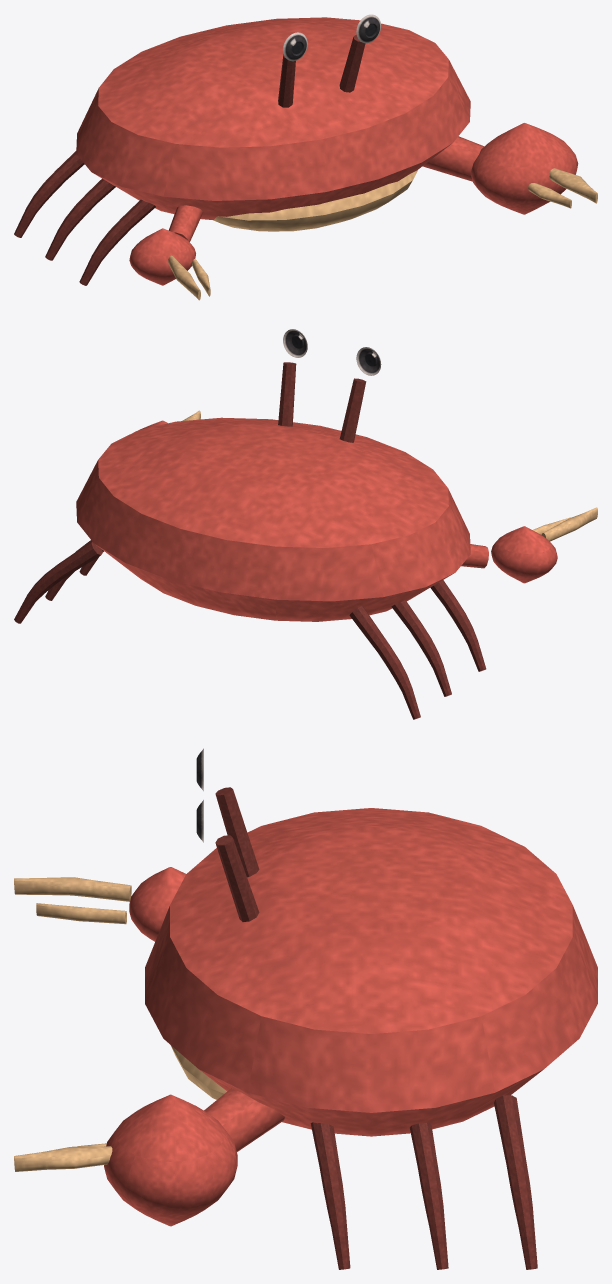
The model's file is sp_kanippa-e3efsgs3.glb.
The picture shows the model from 3 angles, top to bottom: view 1: azimuth 30°, elevation 25°; view 2: azimuth 150°, elevation 25°; view 3: azimuth 270°, elevation 25°; orthographic projection. The views are drawn at different scales.
Parts seen in each view (by area): view 1: Shell, Claw1, Claw-1, Eyes, Leg-1_0, Leg-1_2, Leg-1_1; view 2: Shell, Claw-1, Eyes, Leg-1_2, Leg1_2, Leg-1_1, Leg-1_0; view 3: Shell, Claw1, Claw-1, Eyes, Leg1_2, Leg1_0, Leg1_1.
Part boxes in pixels (x1=…): Shell: x1=76, y1=17, x2=470, y2=231; Claw1: x1=422, y1=123, x2=597, y2=214; Claw-1: x1=129, y1=205, x2=210, y2=300; Eyes: x1=278, y1=14, x2=381, y2=107; Leg-1_0: x1=79, y1=199, x2=155, y2=285; Leg-1_2: x1=14, y1=151, x2=84, y2=237; Leg-1_1: x1=45, y1=178, x2=115, y2=260; Shell: x1=76, y1=417, x2=470, y2=621; Claw-1: x1=461, y1=507, x2=597, y2=583; Eyes: x1=278, y1=329, x2=381, y2=442; Leg-1_2: x1=349, y1=606, x2=420, y2=719; Leg1_2: x1=14, y1=541, x2=102, y2=623; Leg-1_1: x1=391, y1=600, x2=451, y2=696; Leg-1_0: x1=430, y1=580, x2=486, y2=671; Shell: x1=145, y1=808, x2=597, y2=1136; Claw1: x1=14, y1=1088, x2=284, y2=1226; Claw-1: x1=14, y1=867, x2=186, y2=941; Eyes: x1=196, y1=748, x2=259, y2=921; Leg1_2: x1=494, y1=1095, x2=537, y2=1269; Leg1_0: x1=310, y1=1122, x2=350, y2=1269; Leg1_1: x1=410, y1=1122, x2=448, y2=1269.
Size of the model in its own units: 0.8162 by 0.4411 by 0.6545.
Materials: 1 (1 with a texture image).
